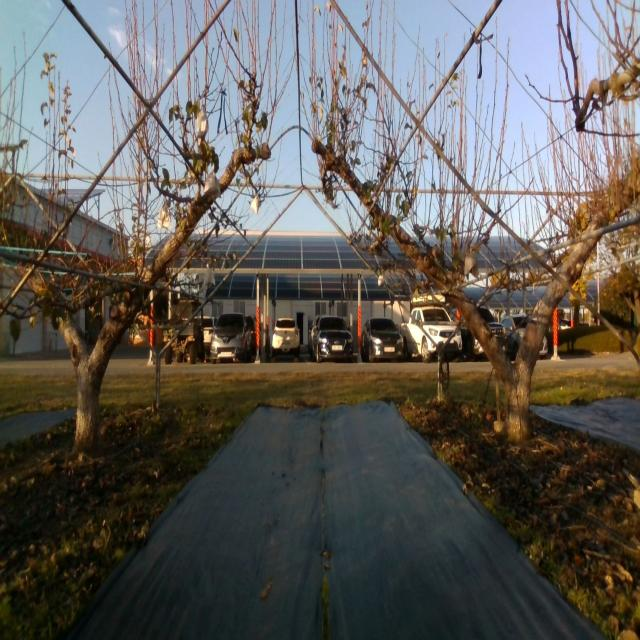pearbags: (204, 173, 221, 198), (196, 109, 209, 139), (158, 204, 171, 233), (464, 256, 478, 279), (203, 268, 216, 285)
